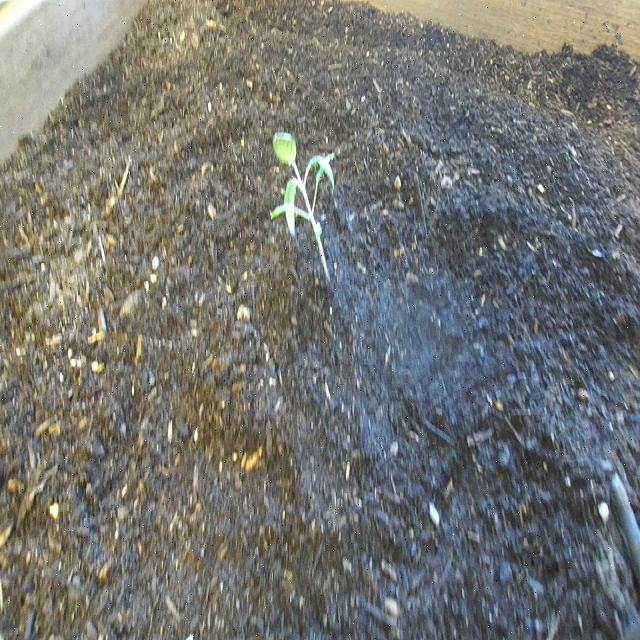Unhealthy: (265, 125, 342, 288)
